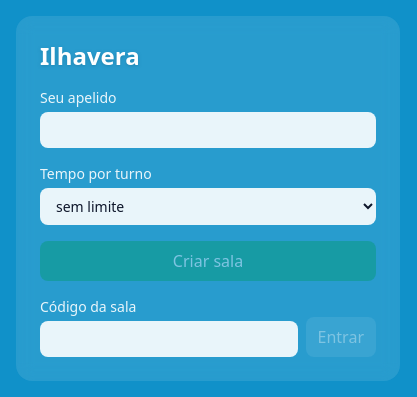
Scenario: tela de entrada › não deixa criar sala sem apelido
(page scrolled)
Expected: the button "Criar sala" is disabled, [40,241,376,281]
Type "Ana" into the field with test id "apelido" at coordinates (208, 130), box [40,112,376,148]
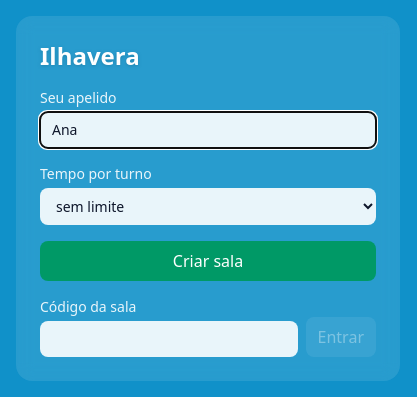
Now the button "Criar sala" is enabled, box [40,241,376,281]
